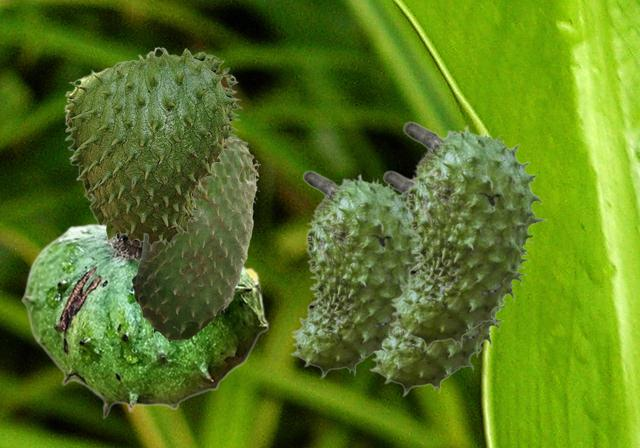guyabano: (21, 223, 268, 418), (388, 121, 547, 351), (64, 46, 242, 250), (368, 170, 524, 396), (289, 170, 418, 378), (130, 137, 259, 343)
